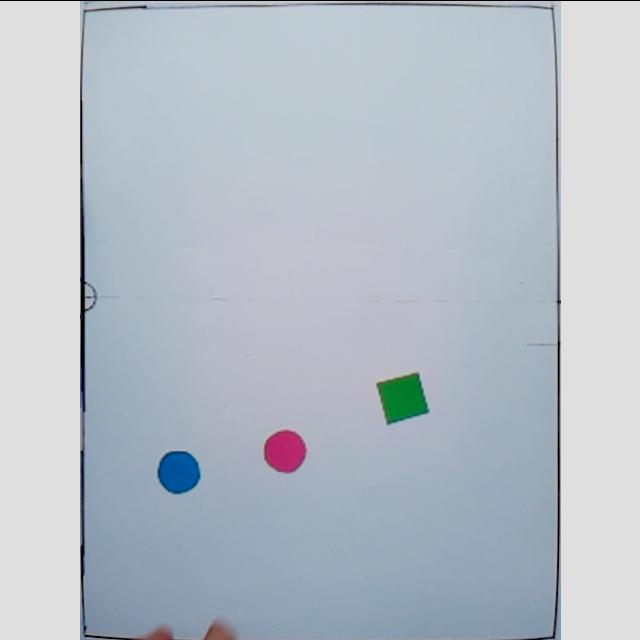blueCircle: (153, 448, 201, 494)
pinkCircle: (374, 369, 430, 425), (258, 427, 306, 473)
